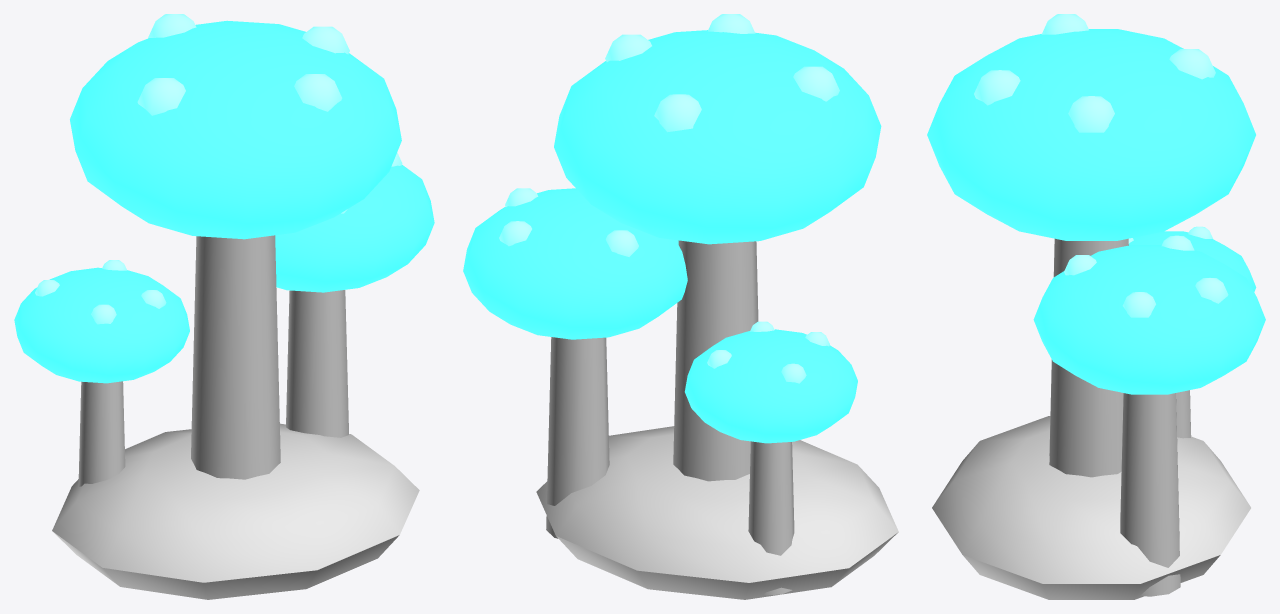
Rendered from glowcap_mushroom.glb.
3 renders of one model, left to right at view 1: azimuth 30°, elevation 25°; view 2: azimuth 150°, elevation 25°; view 3: azimuth 270°, elevation 25°, orthographic. The views are drawn at different scales.
Visible parts, largest first — view 1: glowcap_mushroom; view 2: glowcap_mushroom; view 3: glowcap_mushroom.
Boxes of the visible parts, x1,y1,x2,y2 form: glowcap_mushroom: (14,14,434,599); glowcap_mushroom: (463,14,898,599); glowcap_mushroom: (927,14,1265,599).
Size of the model in its own units: 0.0889 by 0.1157 by 0.07.
